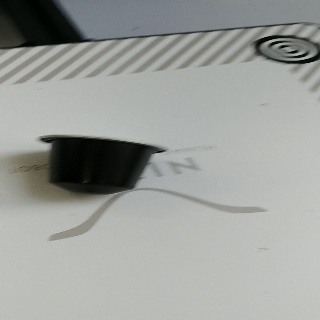capsule_10: (36, 134, 168, 195)
